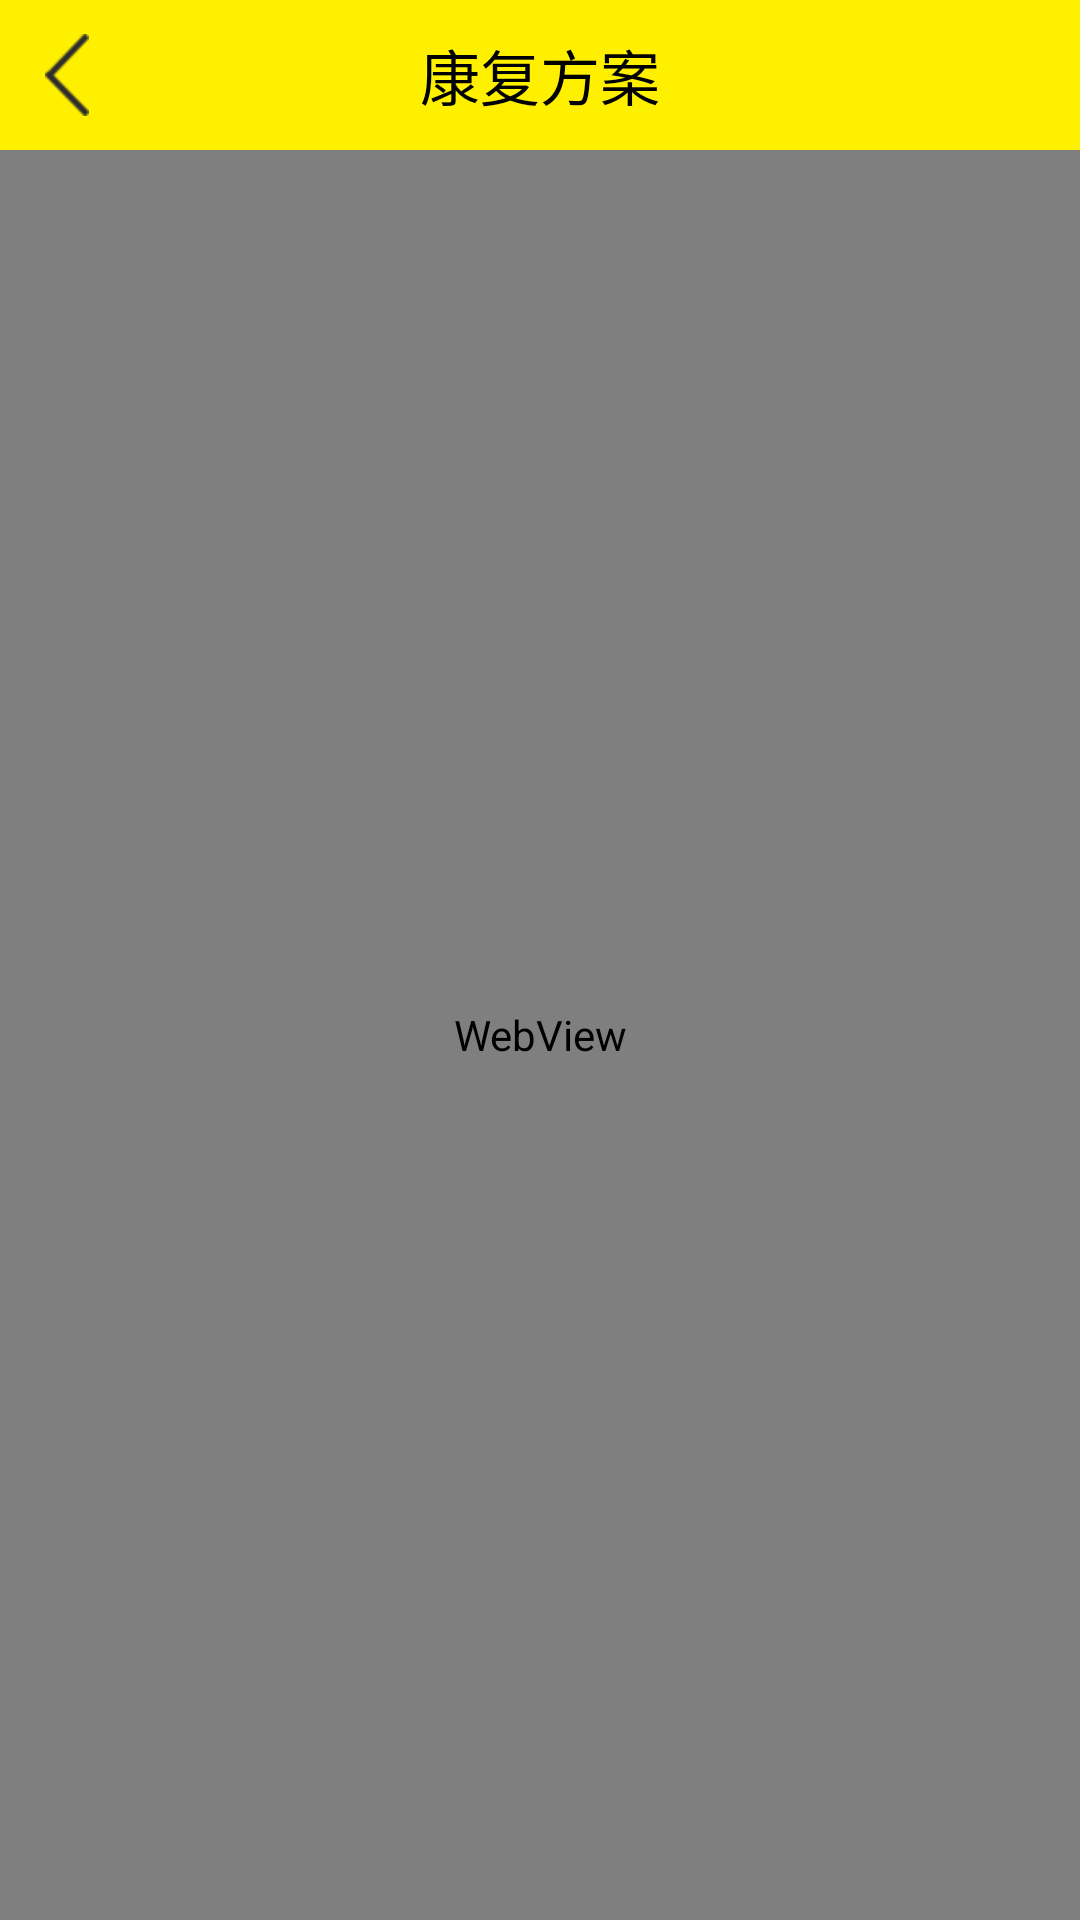

Point at icon controls on the screen. Image size 1080x1920, points as point (x, y).
back: point (67, 75)
